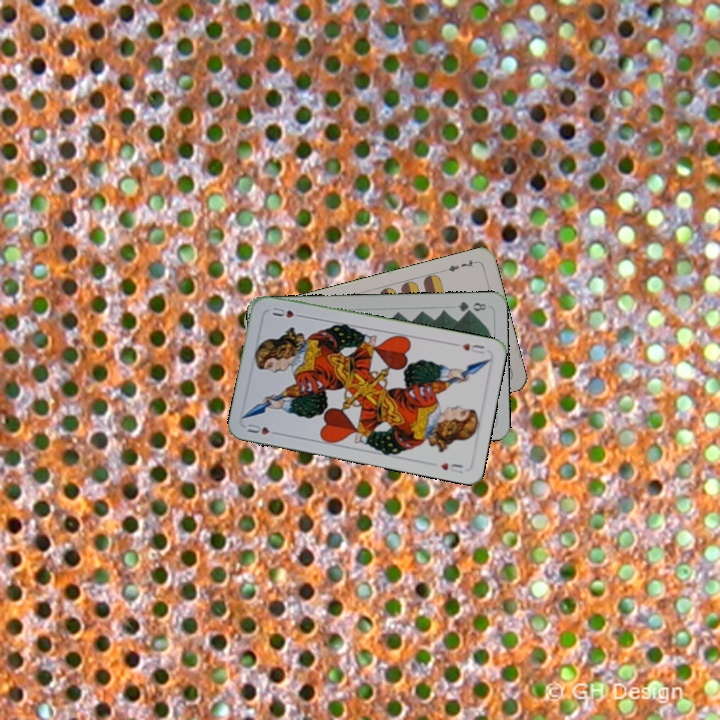E7: (440, 256, 480, 275)
G8: (453, 297, 489, 315)
HU: (243, 420, 282, 438), (458, 339, 487, 356)
